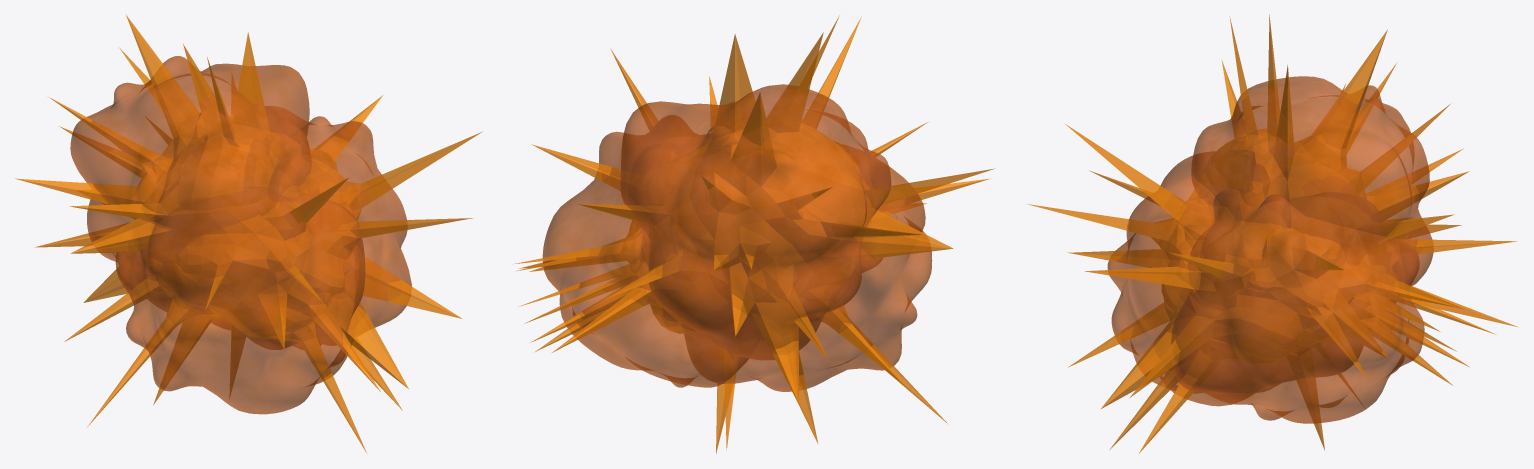
File: explosion2.glb
3 renders of one model, left to right at view 1: azimuth 30°, elevation 25°; view 2: azimuth 150°, elevation 25°; view 3: azimuth 270°, elevation 25°, orthographic. The views are drawn at different scales.
Visible parts, largest first — view 1: Explosion, Explosion_pointy; view 2: Explosion, Explosion_pointy; view 3: Explosion, Explosion_pointy.
Boxes of the visible parts, x1=… form: Explosion: x1=70, y1=56, x2=411, y2=414; Explosion_pointy: x1=15, y1=15, x2=481, y2=452; Explosion: x1=542, y1=84, x2=932, y2=391; Explosion_pointy: x1=514, y1=15, x2=994, y2=453; Explosion: x1=1107, y1=76, x2=1433, y2=423; Explosion_pointy: x1=1027, y1=14, x2=1518, y2=453.
Size of the model in its own units: 18.36 by 17.87 by 19.92.
Materials: 2 (1 with a texture image).
